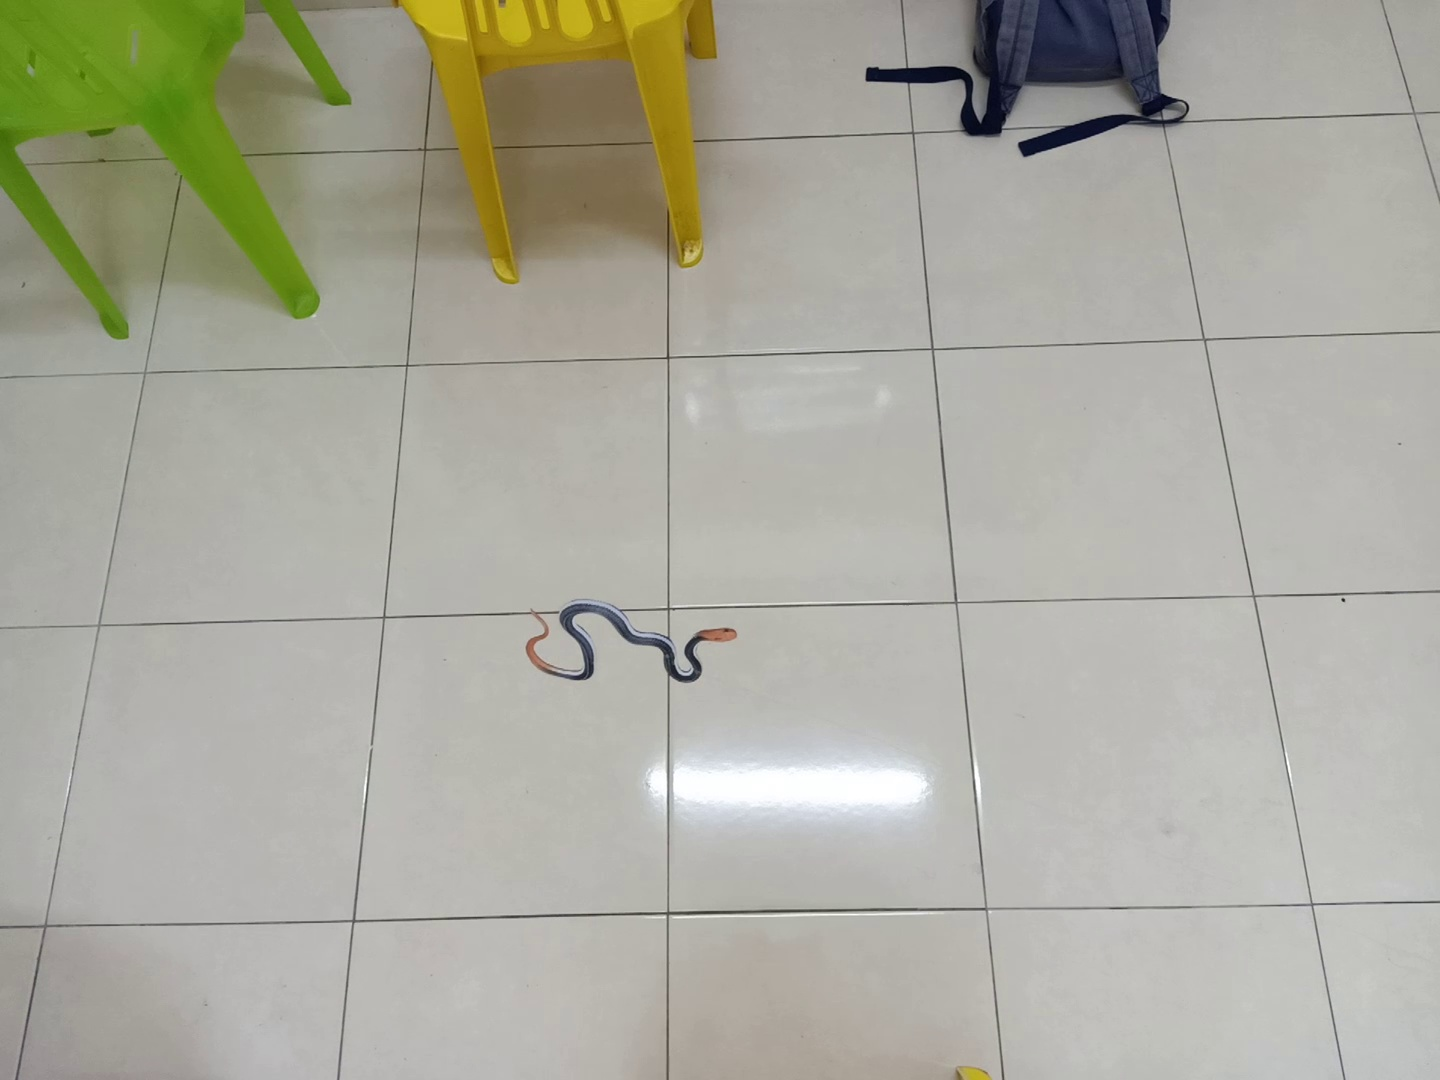snake: (522, 590, 745, 687)
